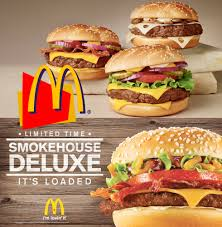hamburger: (101, 126, 222, 227), (105, 45, 196, 116), (42, 23, 120, 80), (124, 1, 204, 53)
